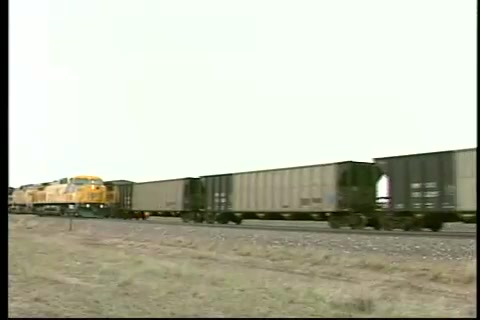train: (9, 148, 478, 235)
